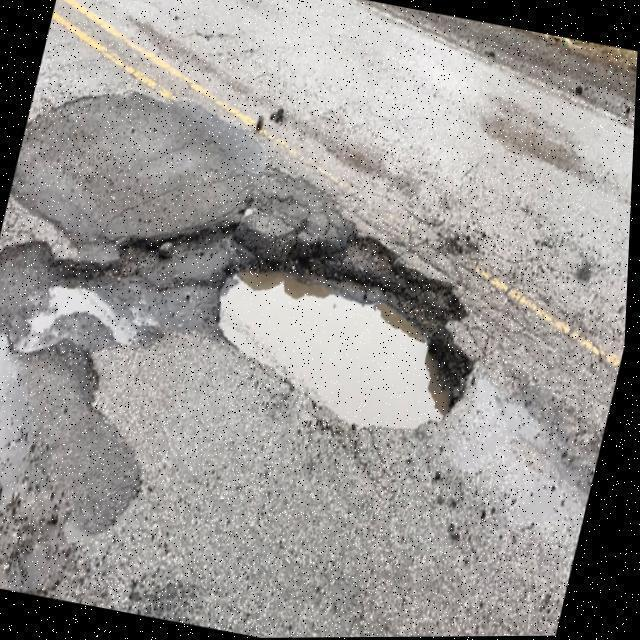Pothole: (0, 87, 480, 598)
